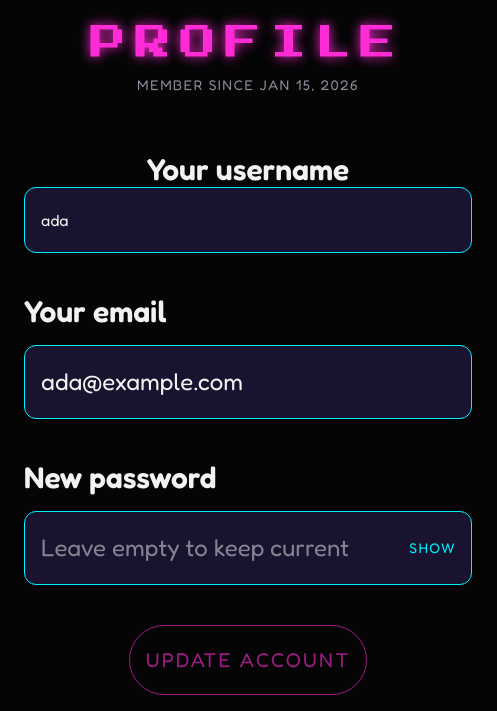
Profile page › enables Update when only the password is filled
The width and height of the screenshot is (497, 711).
Type "newsecret1" into the password field with placeholder "Leave empty to keep current" at (248, 548), box 24,511 -> 472,585
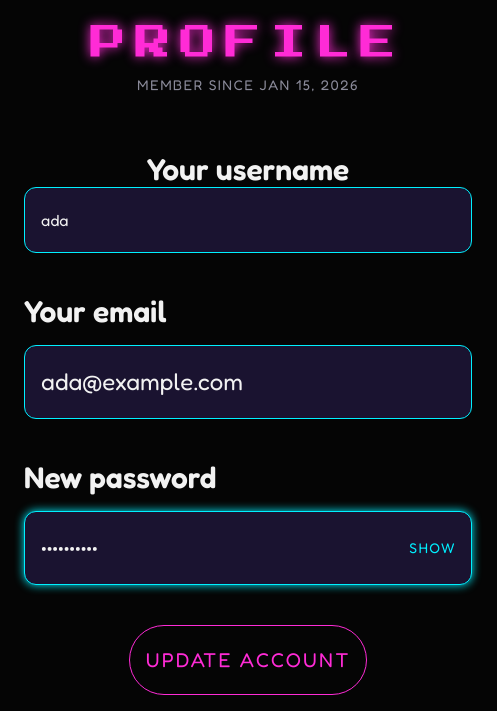
Check: the button "Update account" is enabled, box 129,625 -> 367,695
